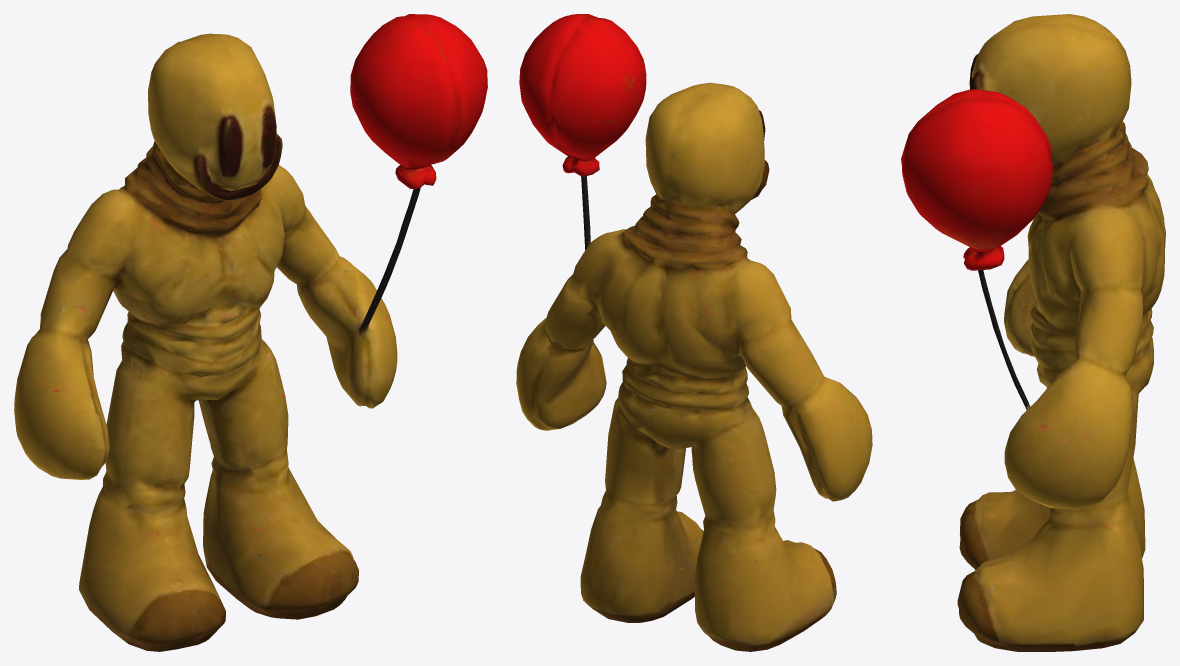
The model's file is plush.glb.
3 views of the same model, side by side, from view 1: azimuth 30°, elevation 25°; view 2: azimuth 150°, elevation 25°; view 3: azimuth 270°, elevation 25° (orthographic). The views are drawn at different scales.
Parts seen in each view (by area): view 1: n0; view 2: n0; view 3: n0.
Part boxes in pixels (<box>): n0: <box>14,14,487,651</box>; n0: <box>516,14,872,651</box>; n0: <box>901,14,1165,651</box>.
Size of the model in its own units: 0.2523 by 0.34 by 0.1381.
Materials: 1 (1 with a texture image).
